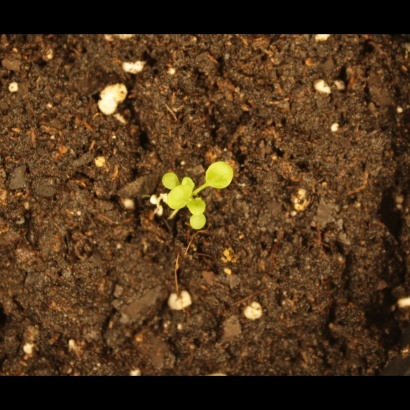leaf: (206, 159, 236, 192), (168, 182, 193, 210), (185, 212, 211, 237), (185, 195, 208, 218), (161, 171, 184, 194), (178, 172, 201, 195)
